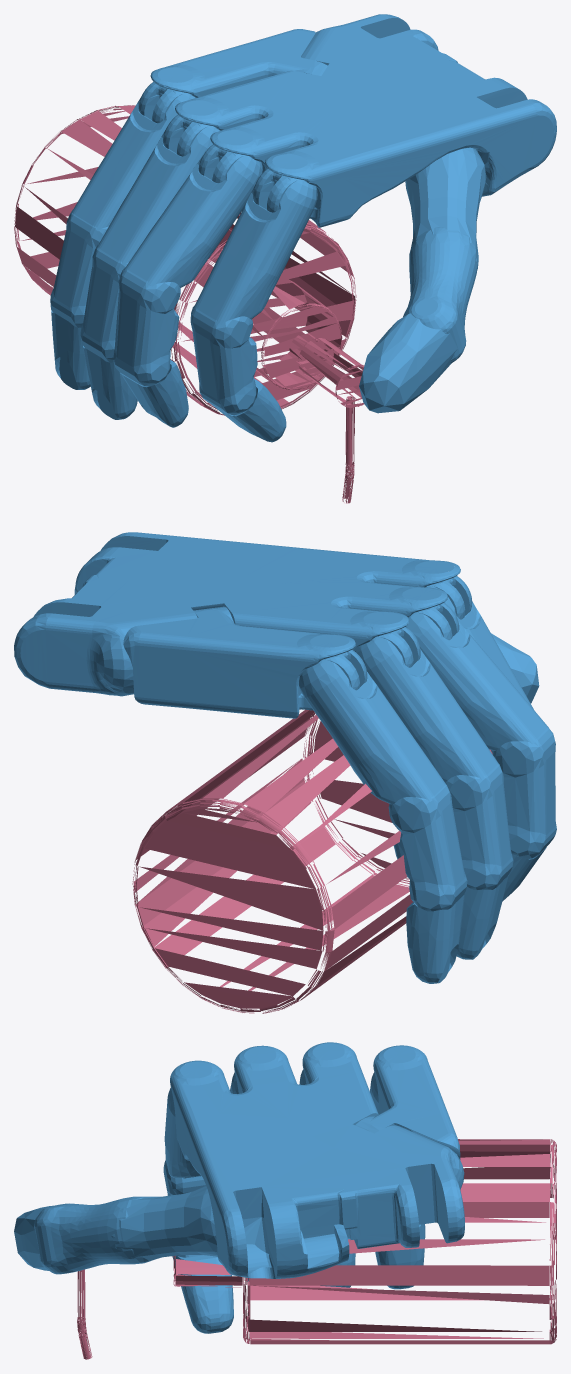
3 views of the same model, one above another, from view 1: azimuth 30°, elevation 25°; view 2: azimuth 150°, elevation 25°; view 3: azimuth 270°, elevation 25° (orthographic). The views are drawn at different scales.
Parts seen in each view (by area): view 1: 0; view 2: 0; view 3: 0.
Boxes of the visible parts, left/top/right/bottom form: 0: left=14, top=14, right=556, bottom=503; 0: left=14, top=532, right=556, bottom=1013; 0: left=14, top=1042, right=556, bottom=1359.
Bounding box in the file's own units: 0.1543 × 0.1082 × 0.1771.
